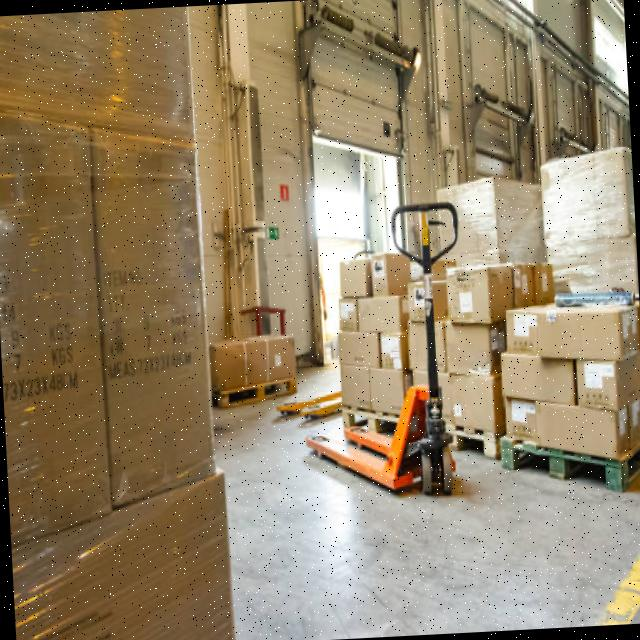Wooden-Pallets: (496, 433, 632, 500), (216, 375, 301, 412)
